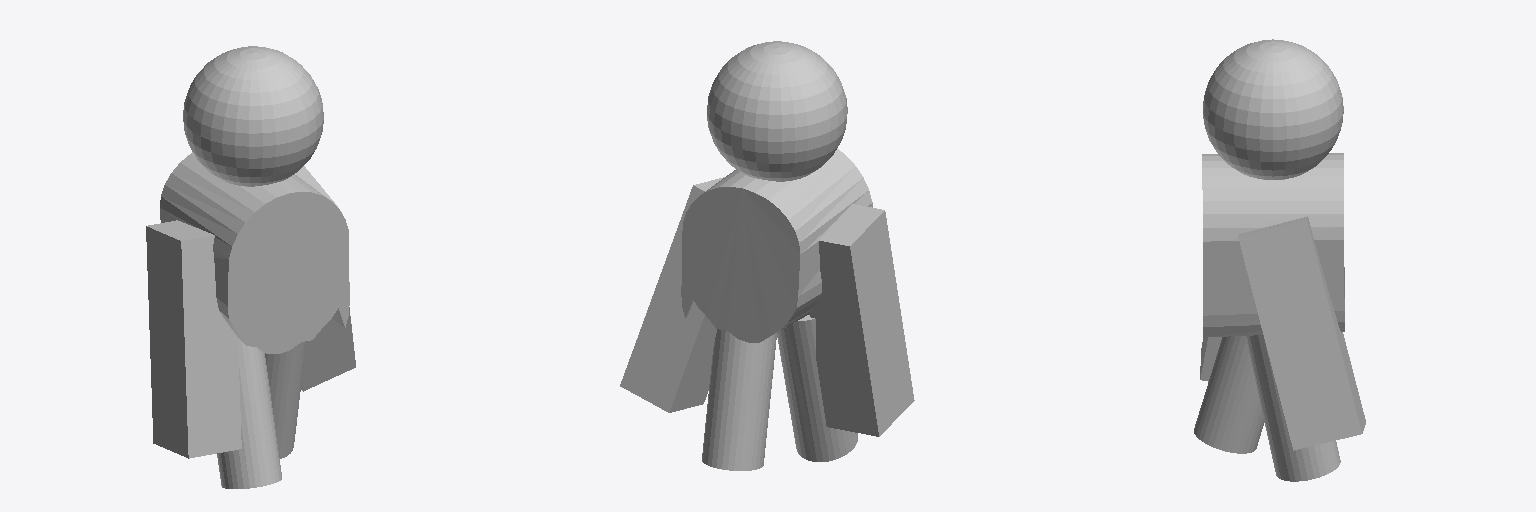
File: Figurine77.obj
3 views of the same model, side by side, from view 1: azimuth 30°, elevation 25°; view 2: azimuth 150°, elevation 25°; view 3: azimuth 270°, elevation 25° (orthographic).
Visible parts, largest first — view 1: Cylinder; view 2: Cylinder; view 3: Cylinder.
Boxes of the visible parts, box(x1,y1,x2,y2) form: Cylinder: box(146, 46, 355, 488); Cylinder: box(620, 41, 914, 470); Cylinder: box(1194, 39, 1365, 481).
Bounding box in the file's own units: 3.49 × 6.46 × 2.44.